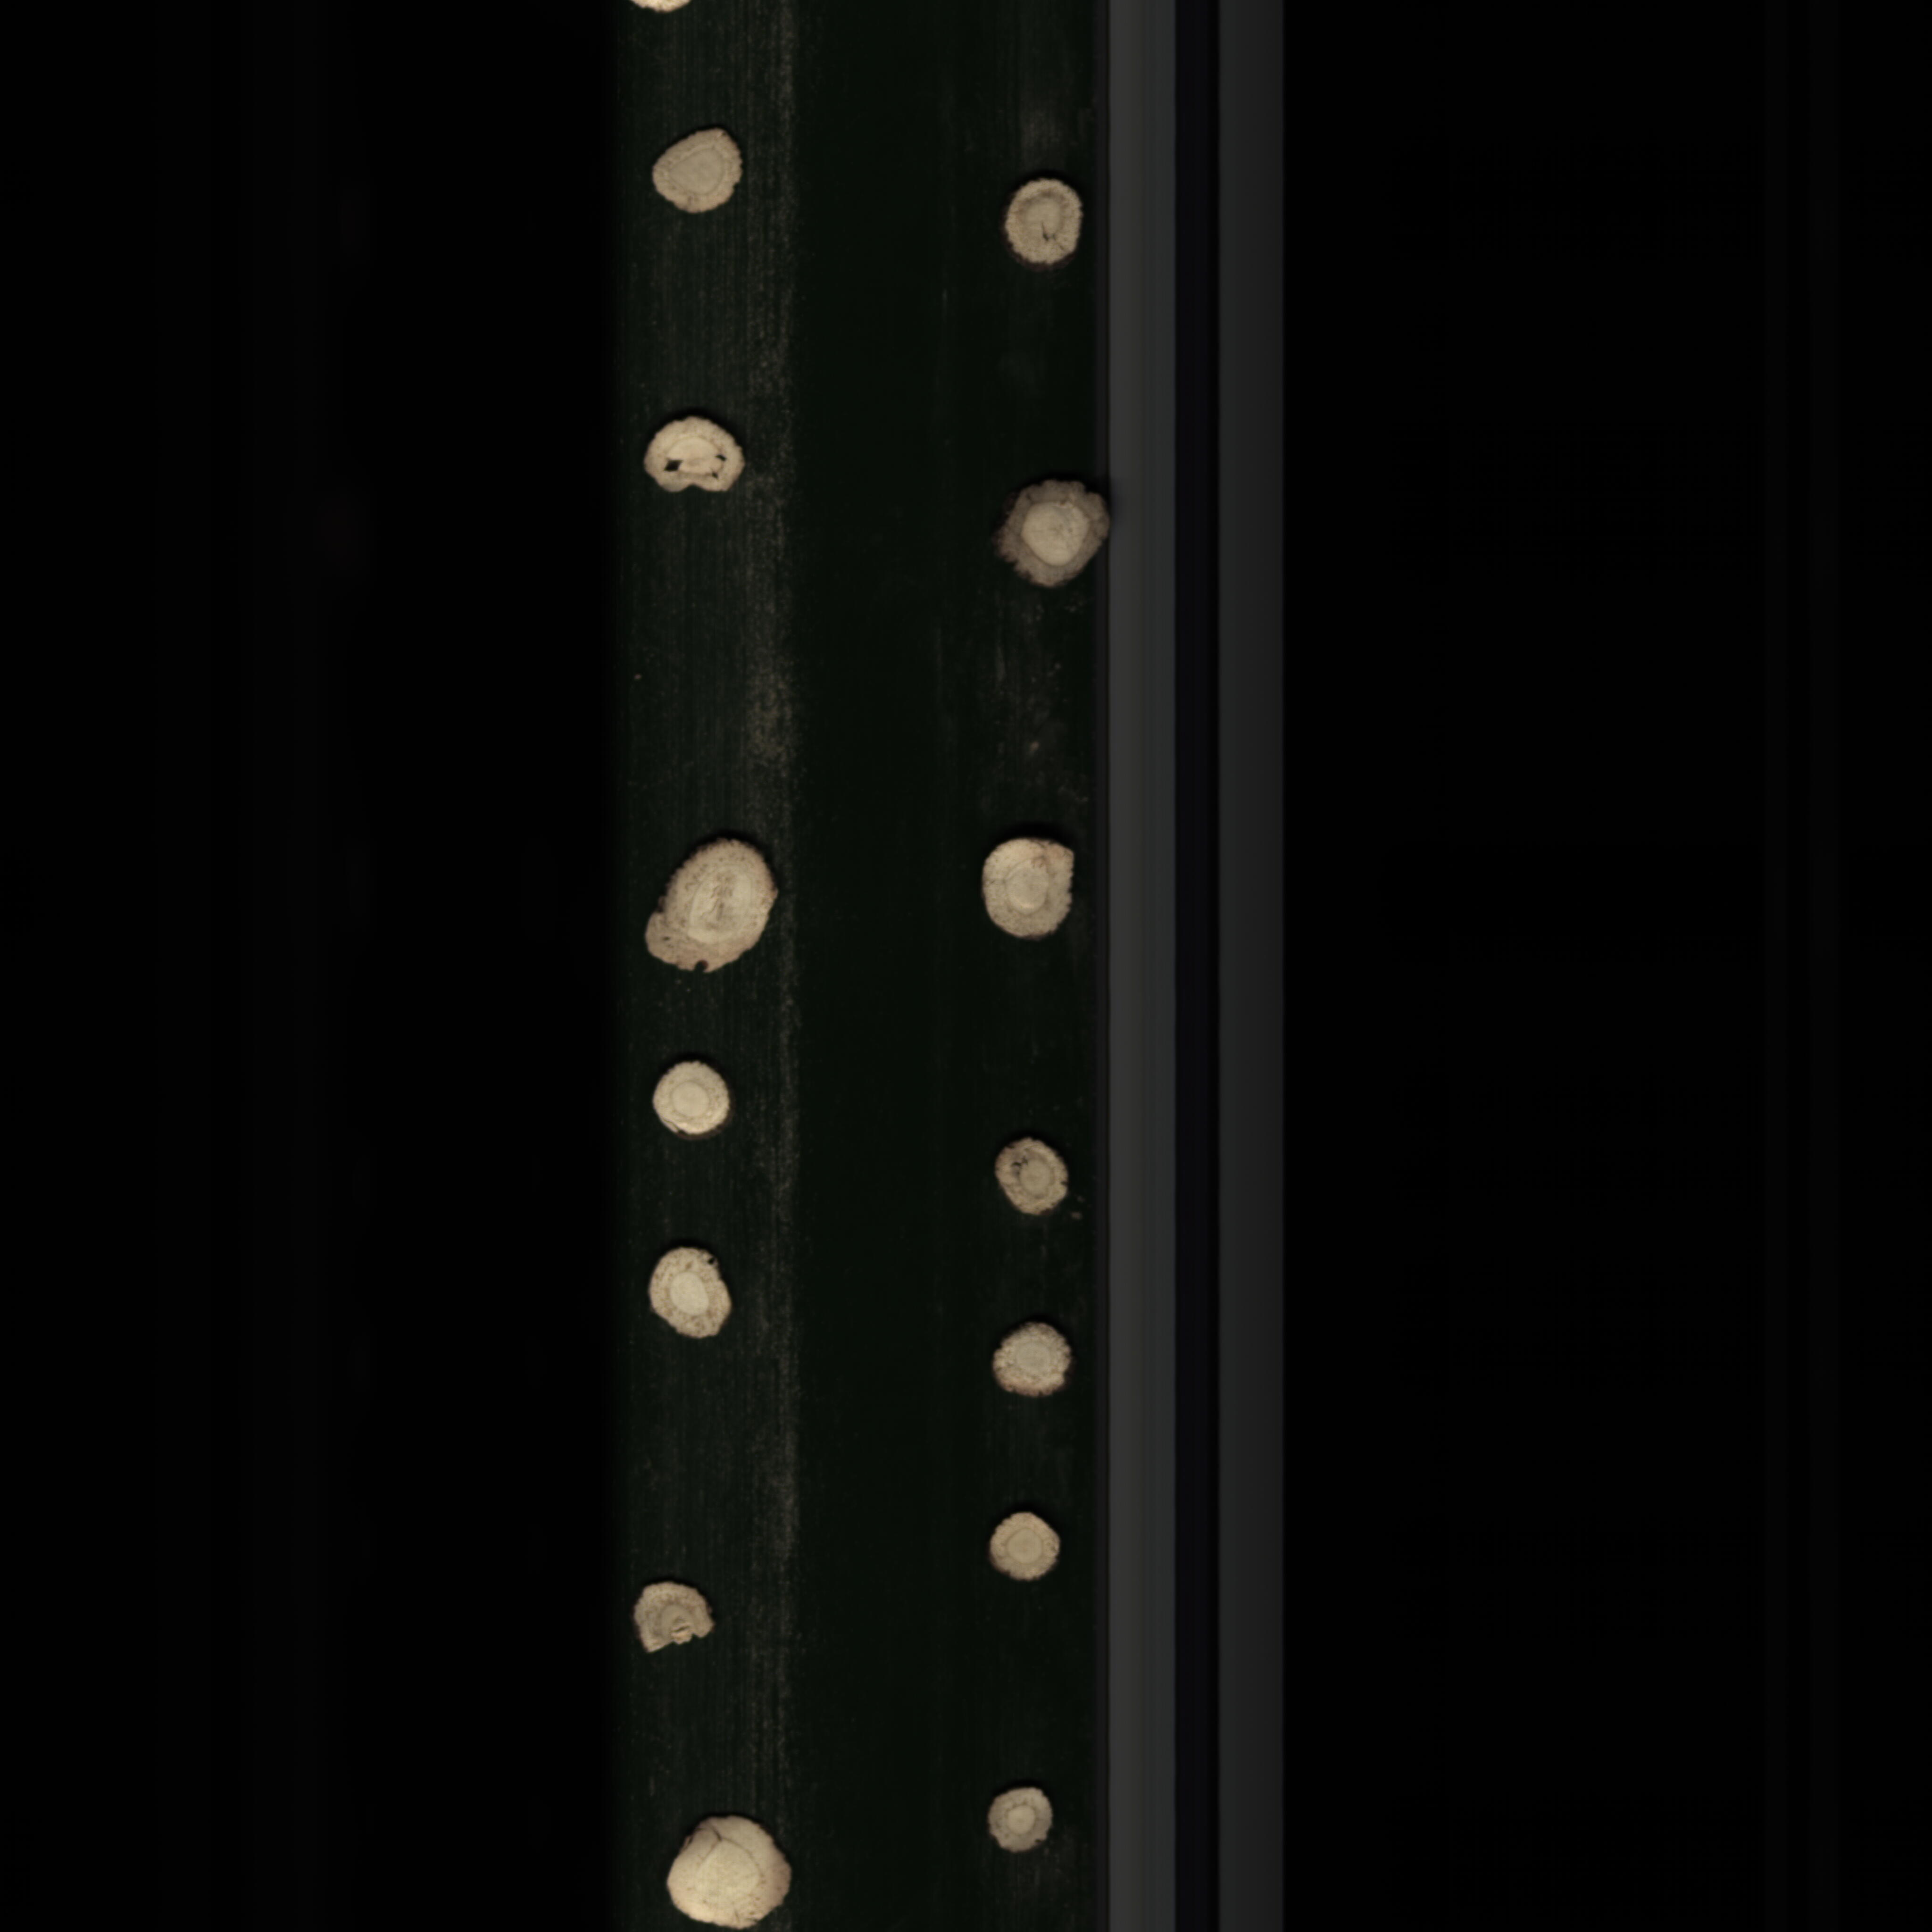debris: (623, 1575, 738, 1663)
hole: (637, 414, 750, 504)
moldy: (996, 476, 1118, 596), (978, 1131, 1076, 1231)
